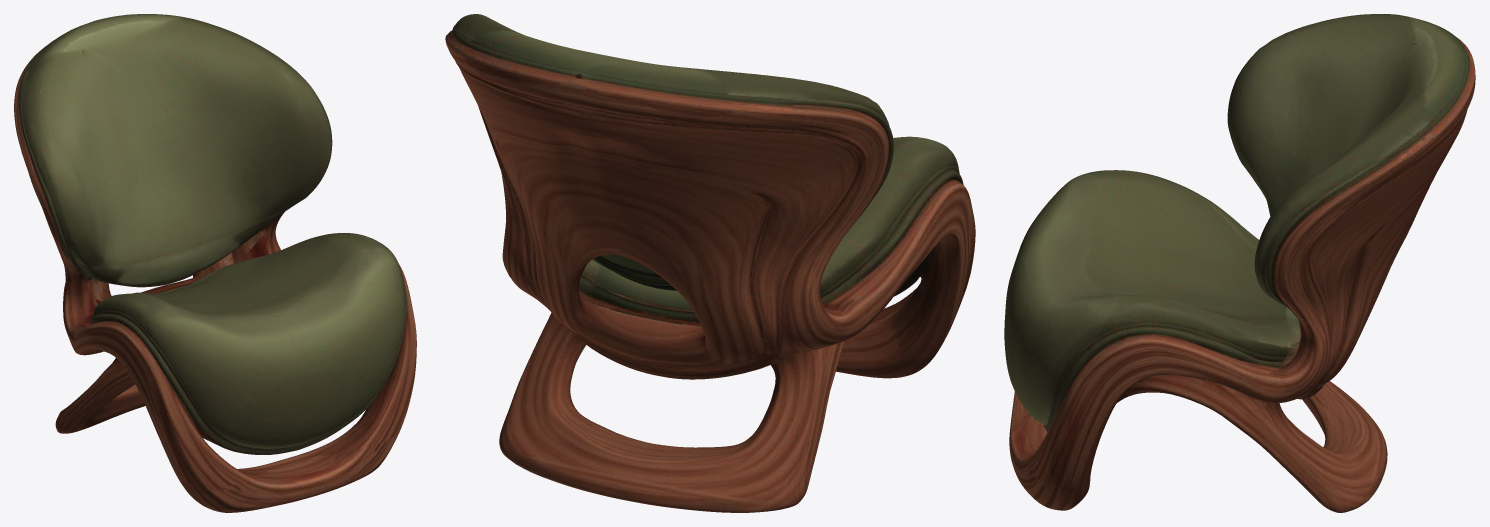
Rendered from axtra-chair.glb.
3 views of the same model, side by side, from view 1: azimuth 30°, elevation 25°; view 2: azimuth 150°, elevation 25°; view 3: azimuth 270°, elevation 25° (orthographic). The views are drawn at different scales.
Visible parts, largest first — view 1: Mesh_0; view 2: Mesh_0; view 3: Mesh_0.
Part boxes in pixels (x1,y1,x2,y2): Mesh_0: (14, 14, 416, 512); Mesh_0: (445, 14, 975, 512); Mesh_0: (1004, 14, 1475, 512).
Size of the model in its own units: 1.62 by 1.8 by 1.9.
2 materials, 2 textured.
